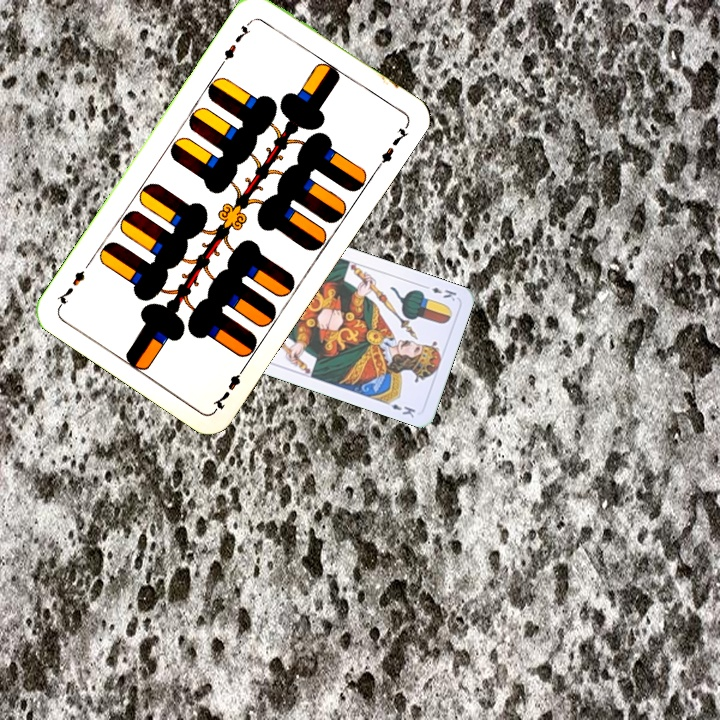E7: (208, 361, 249, 413), (216, 16, 255, 68)
EK: (419, 281, 459, 304)
